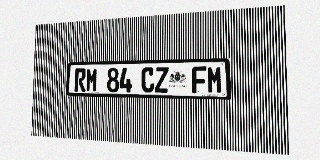4: (119, 67, 132, 92)
8: (107, 68, 119, 92)
C: (141, 67, 154, 93)
F: (192, 66, 207, 93)
M: (207, 66, 223, 94), (86, 68, 98, 92)
R: (74, 68, 86, 92)
Z: (155, 67, 168, 93)
